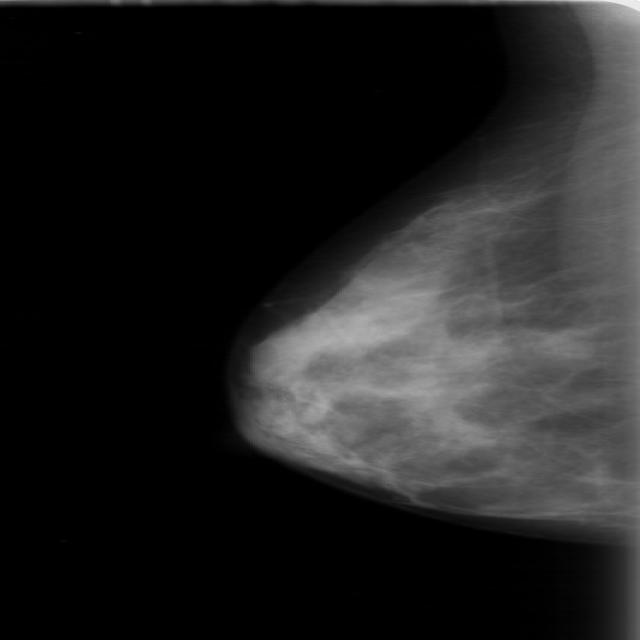tumour: (524, 324, 602, 358)
